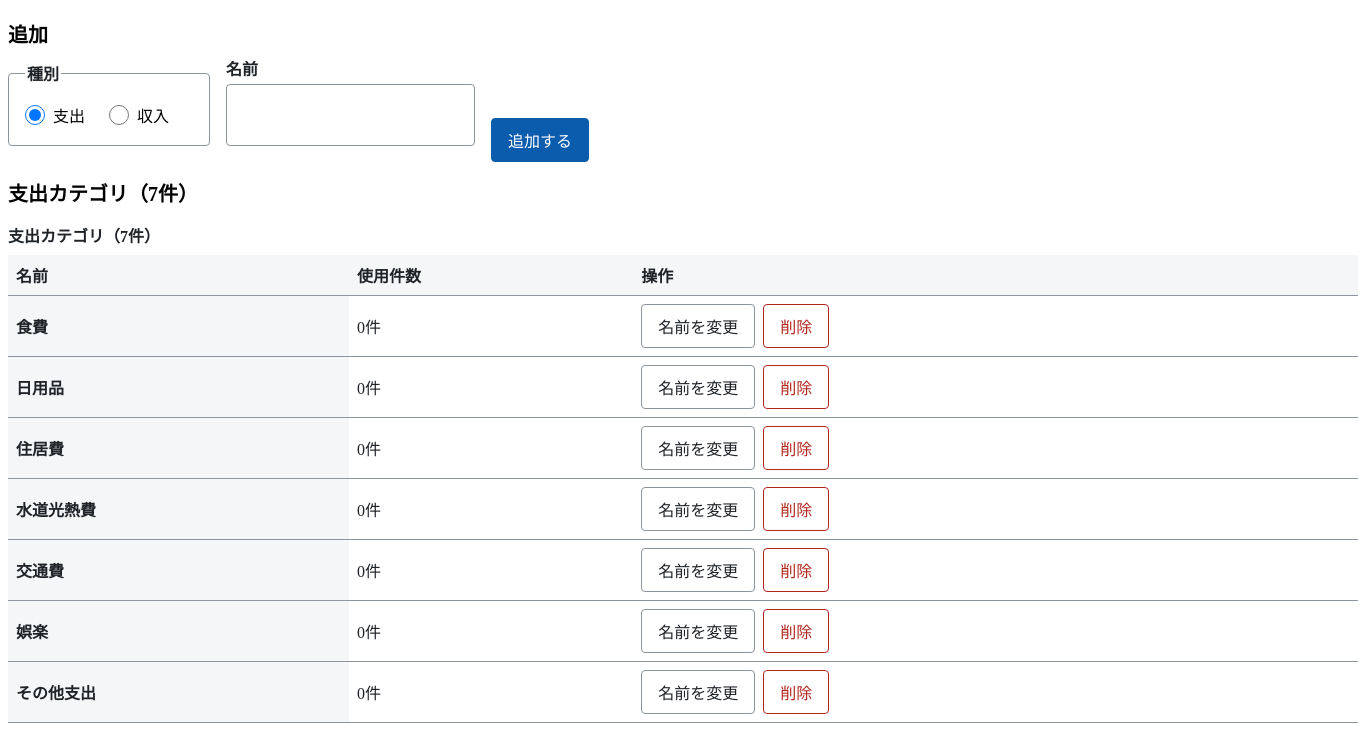
カテゴリの追加 › 保存に失敗したら入力を残し、一覧には加えない（BR8.3）
Type "架空の趣味" into the field labelled "名前".
click(350, 115); type("架空の趣味")  # box [226,84,475,146]
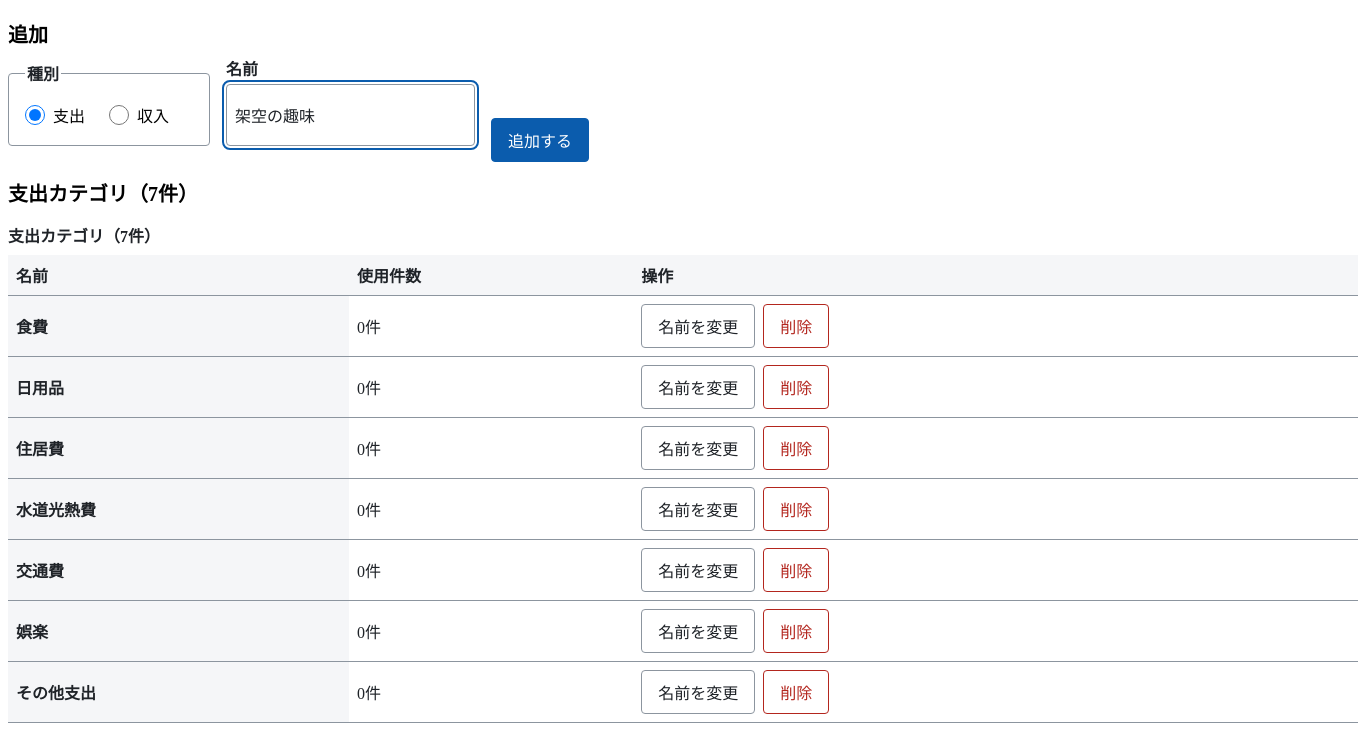
Click the button "追加する".
click(540, 140)  # box [491,118,589,162]
(page scrolled)
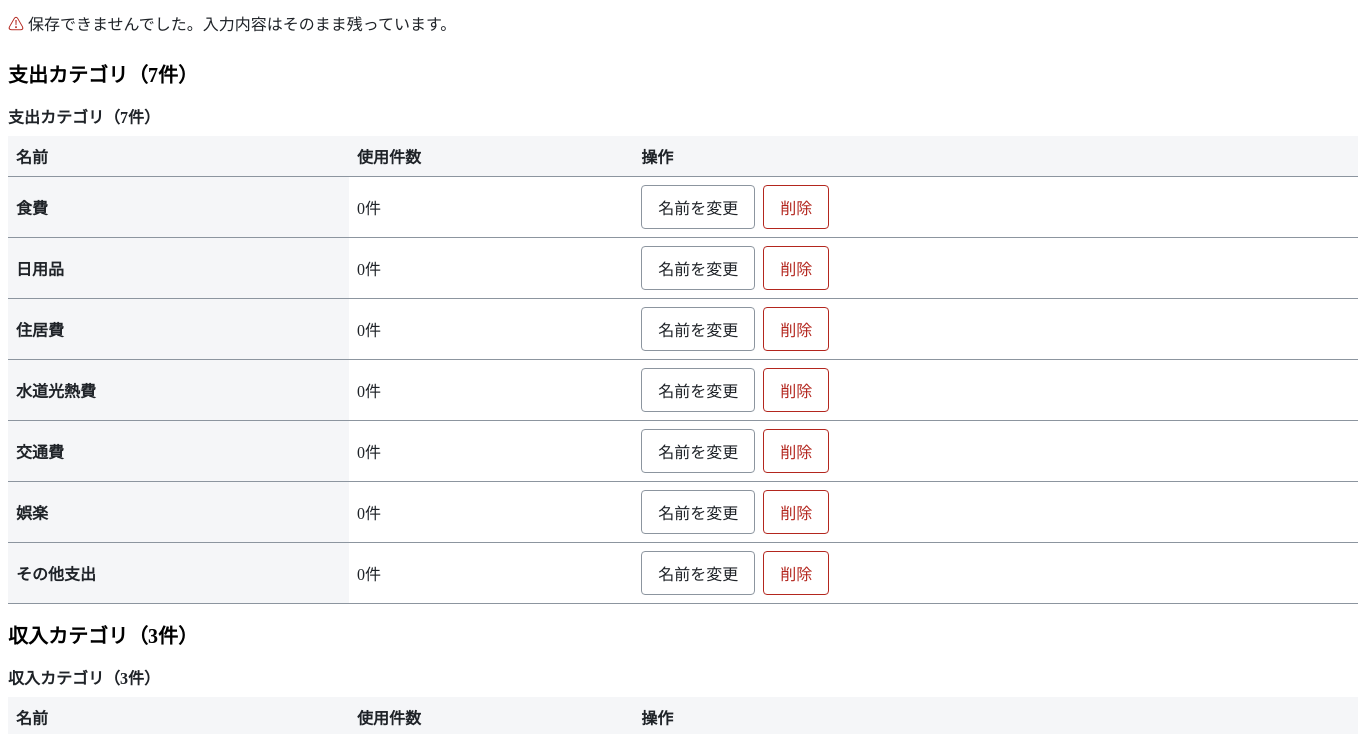
expect the text "保存できませんでした。入力内容はそのまま残っています。" is shown: met, box [28,16,456,33]
